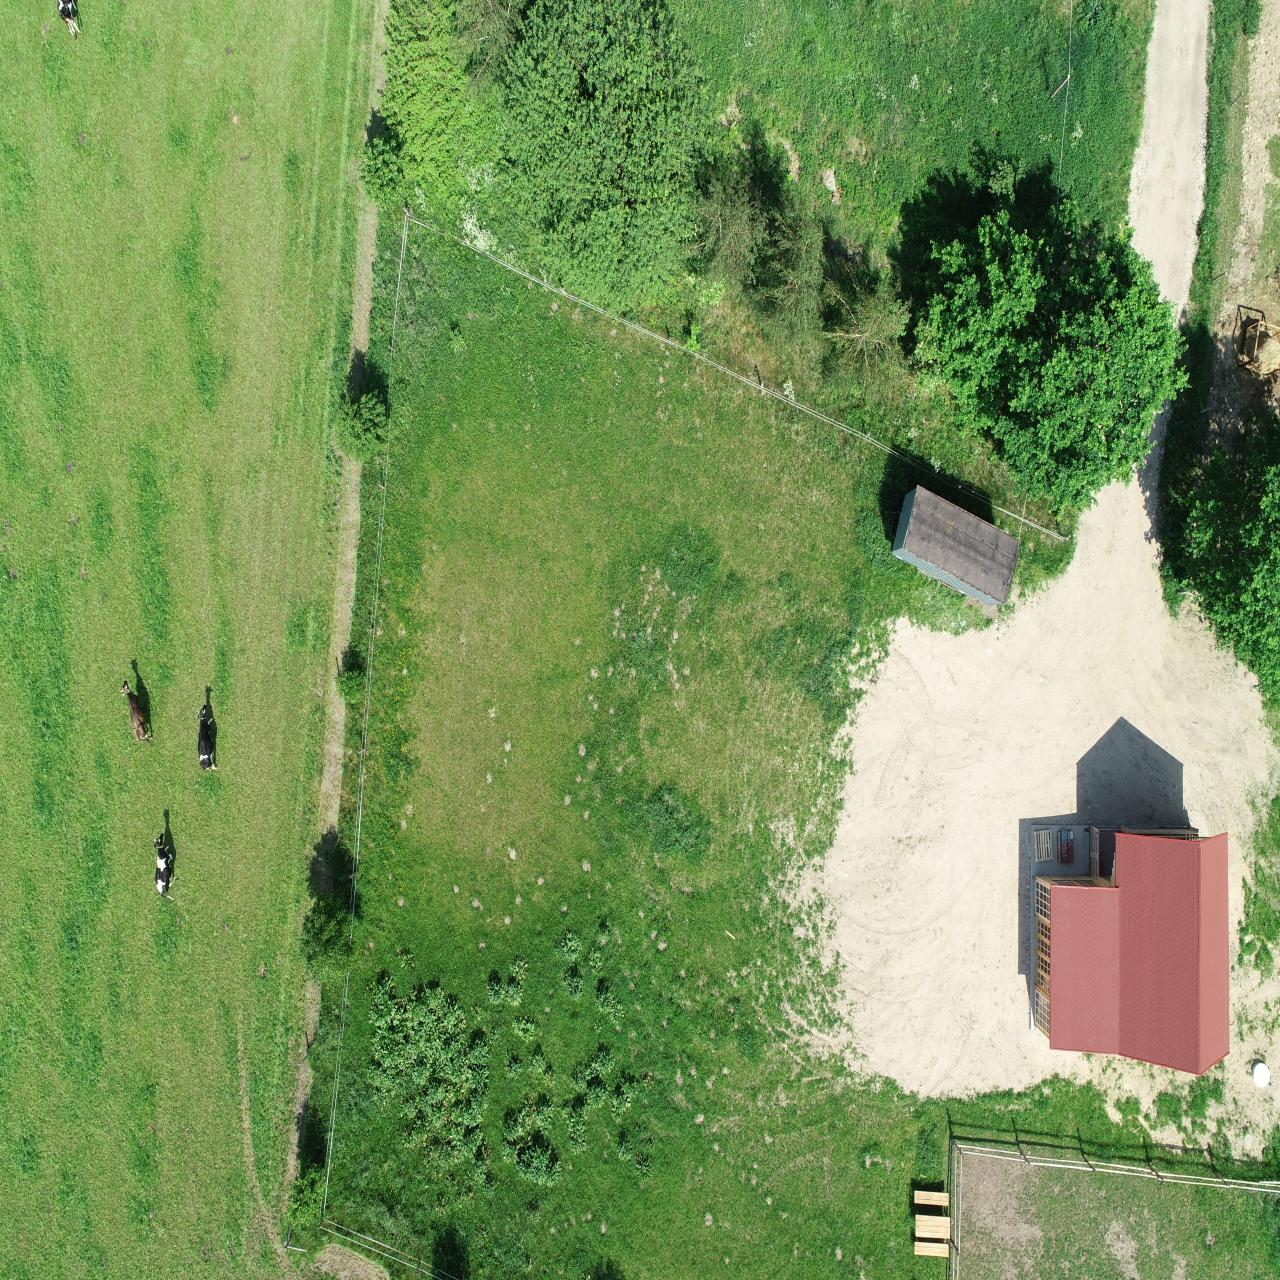cow: (120, 679, 155, 747), (151, 832, 177, 904), (195, 703, 219, 775)
